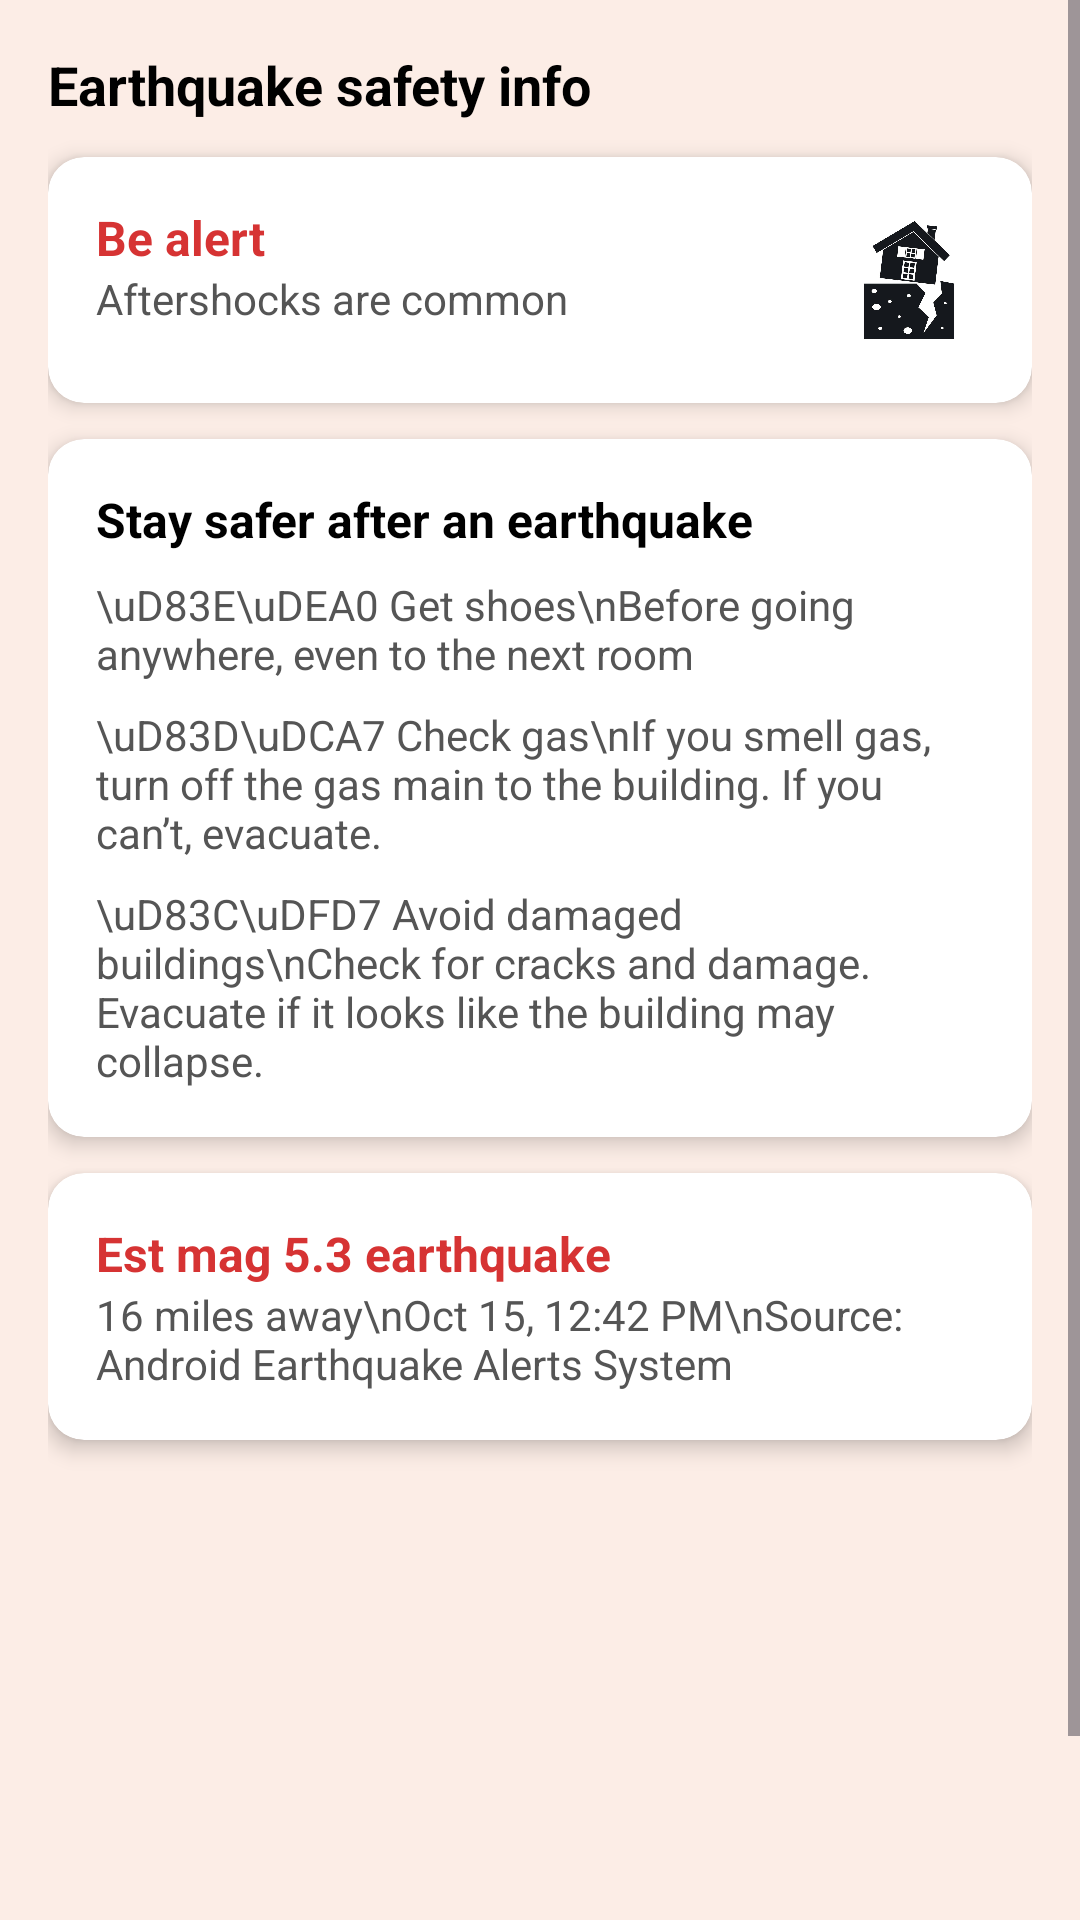

Icon bounding boxes for this 1080 x 1920 phone screenshot, format (x1, y1, x2, y2):
earthhome: (864, 221, 954, 339)
